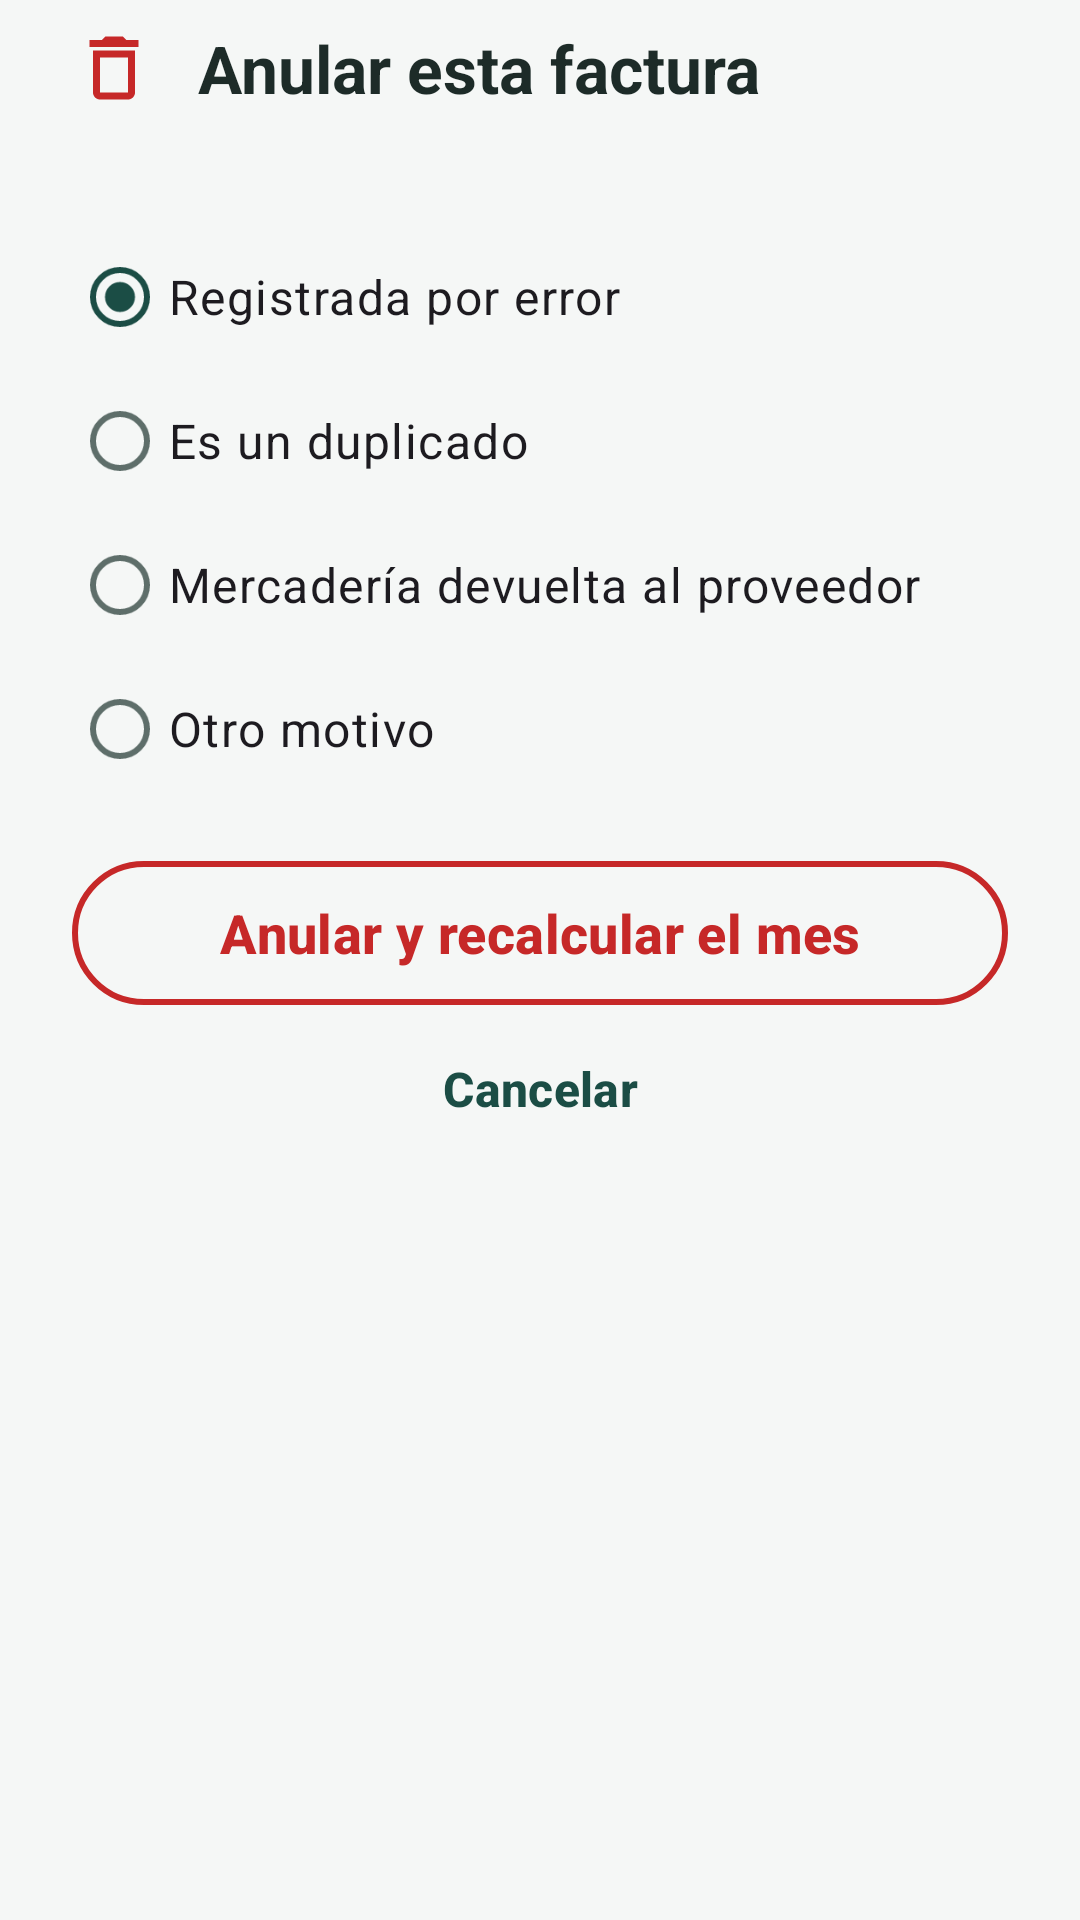

Screen size 1080w x 1920h. Icon name, then its center in pixels as [x,y]:
papelera: [114,68]
